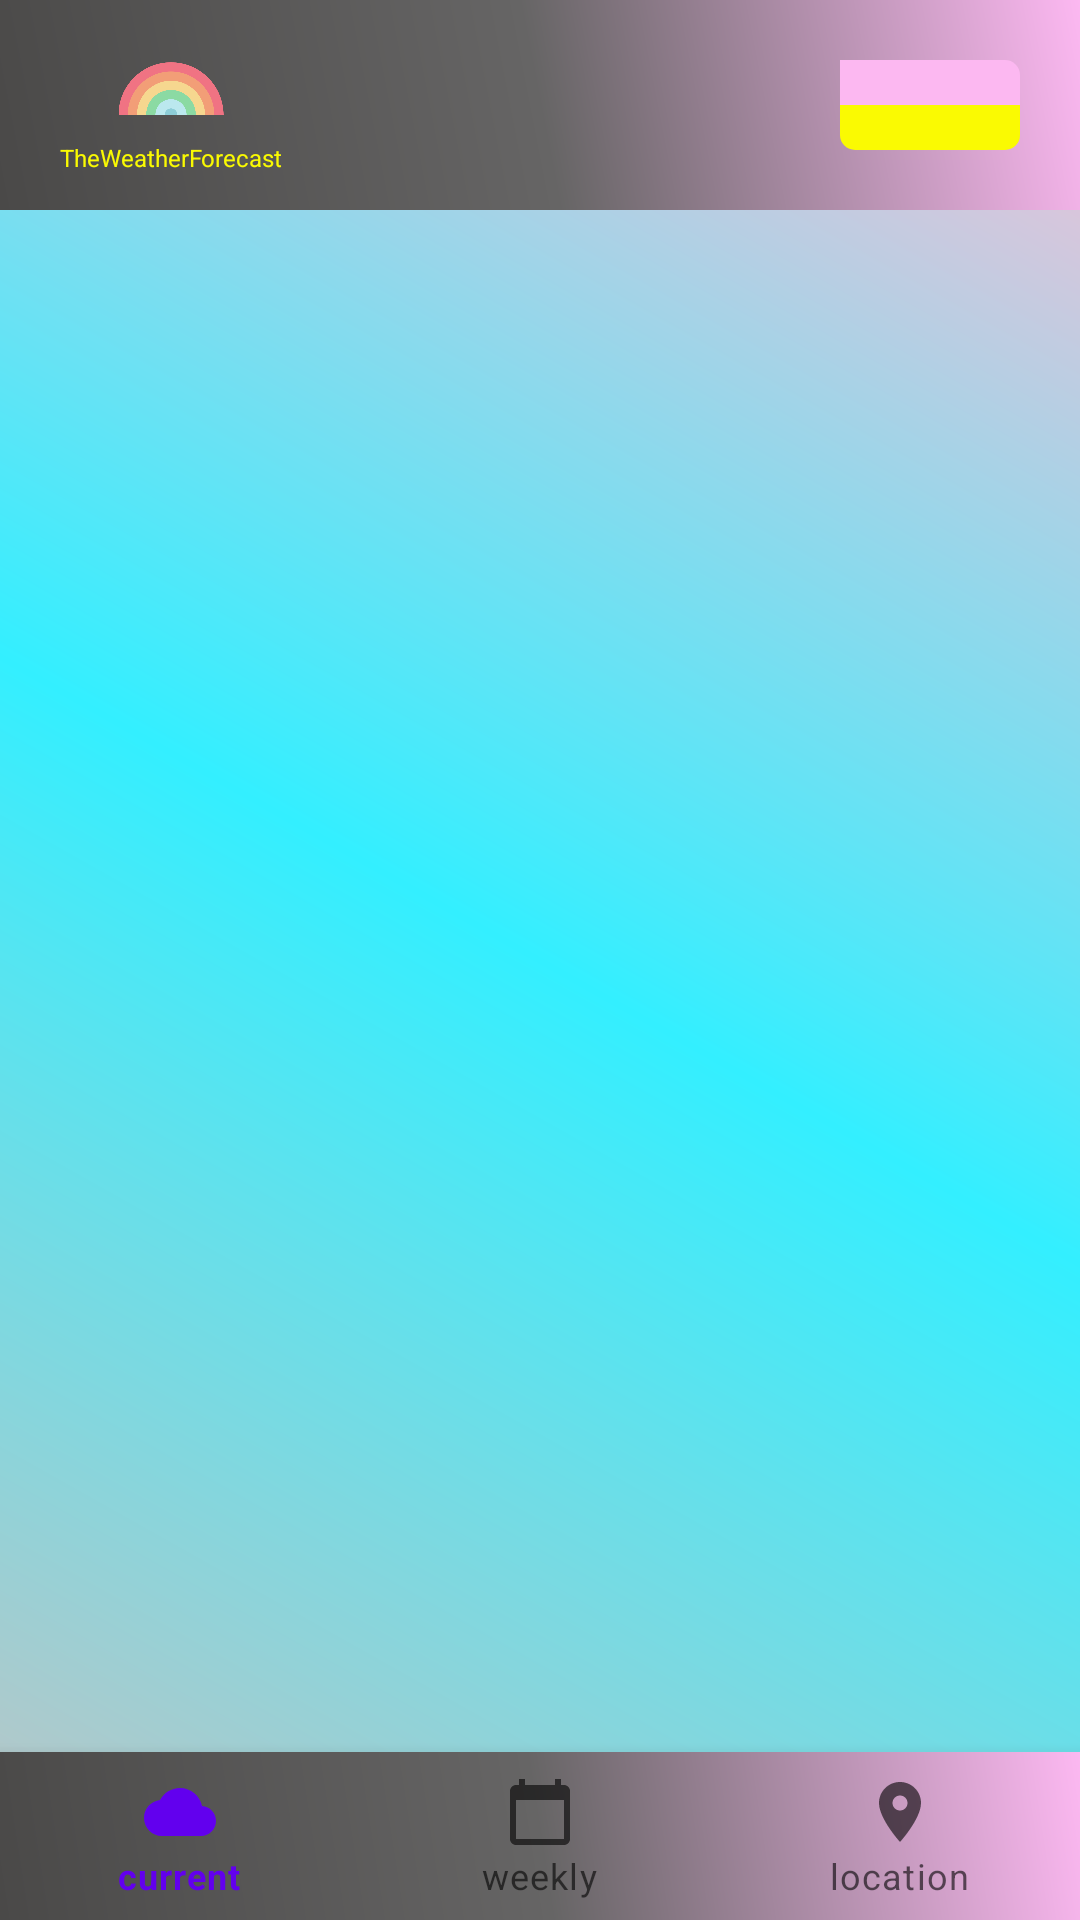

Named icons in this screenshot (1080x1920) and their centers, (x,y):
rainbow: (171,88)
